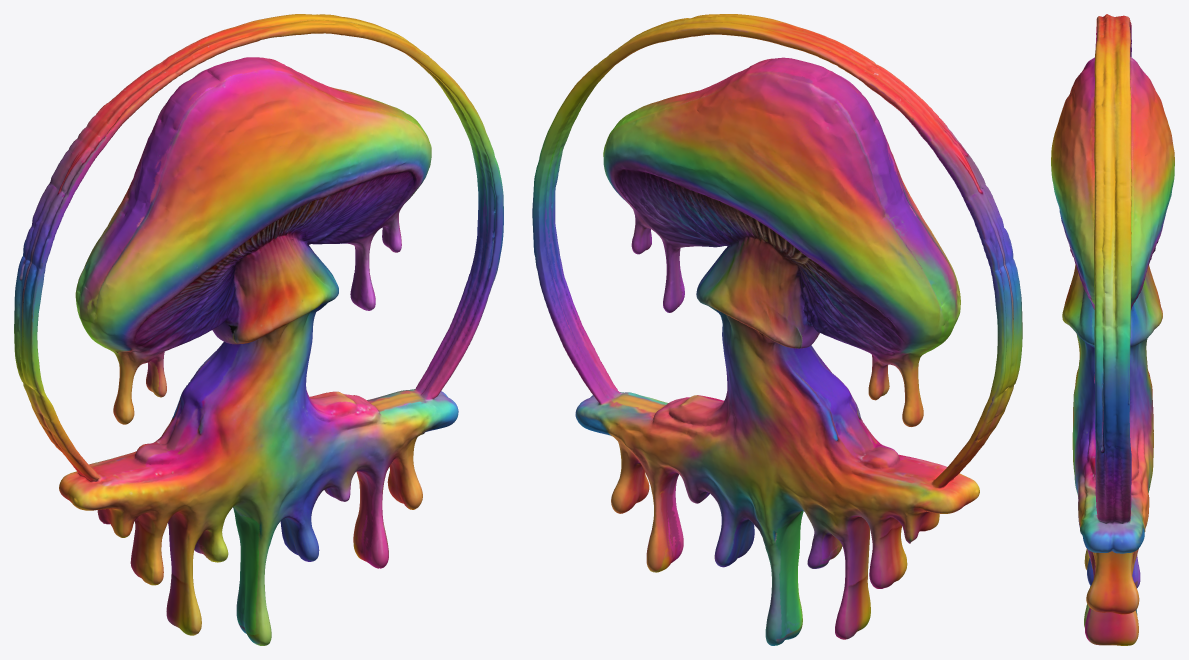
File: mushroomr.glb
3 views of the same model, side by side, from view 1: azimuth 30°, elevation 25°; view 2: azimuth 150°, elevation 25°; view 3: azimuth 270°, elevation 25° (orthographic). The views are drawn at different scales.
Bounding box in the file's own units: 1.63 × 2.01 × 0.3789.
Materials: 1 (1 with a texture image).
